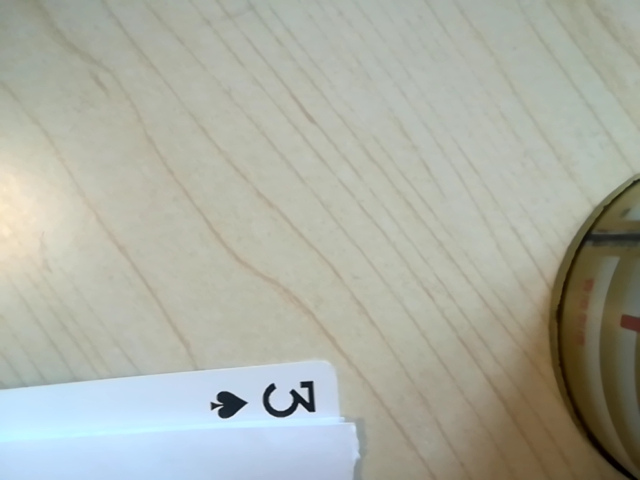ht 3: (195, 371, 338, 433)
